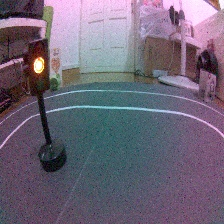amber: (21, 37, 70, 174)
